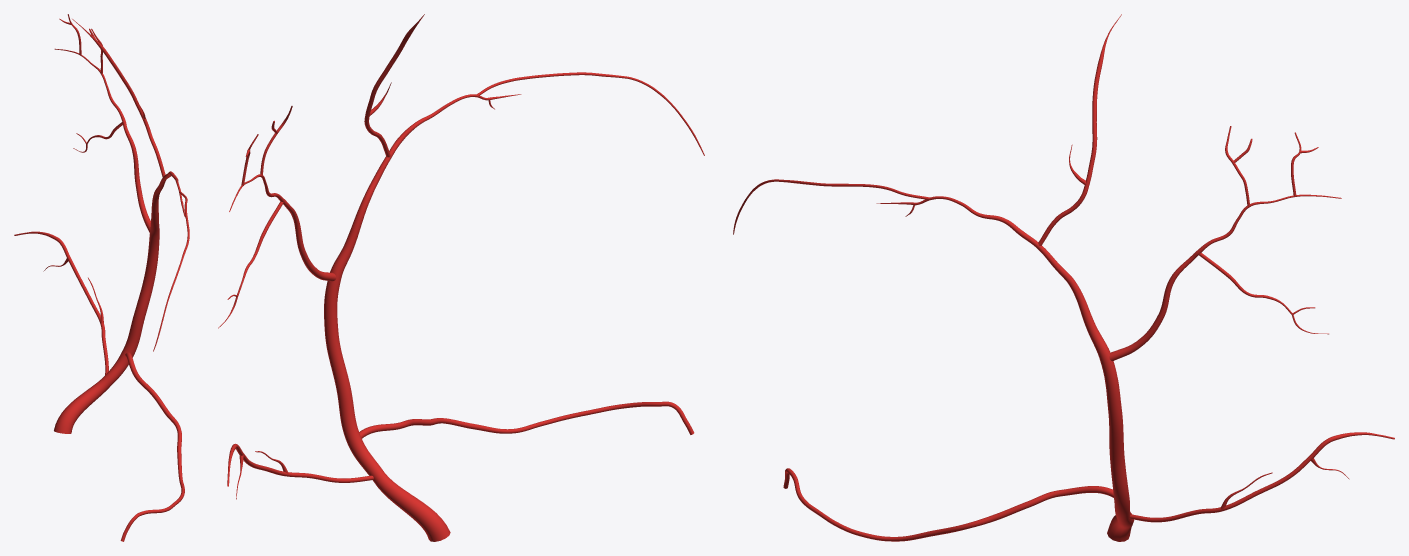
The model's file is circulatorio-superficial-temporal-artery-l.glb.
3 renders of one model, left to right at view 1: azimuth 30°, elevation 25°; view 2: azimuth 150°, elevation 25°; view 3: azimuth 270°, elevation 25°, orthographic. The views are drawn at different scales.
Visible parts, largest first — view 1: Superficial temporal artery.l, Transverse facial artery.l, Frontal branch of superficial temporal artery.l; view 2: Superficial temporal artery.l, Transverse facial artery.l, Frontal branch of superficial temporal artery.l; view 3: Superficial temporal artery.l, Transverse facial artery.l.
Part boxes in pixels (<box>): Superficial temporal artery.l: <box>14,14,185,433</box>; Transverse facial artery.l: <box>120,352,184,541</box>; Frontal branch of superficial temporal artery.l: <box>153,191,189,351</box>; Superficial temporal artery.l: <box>218,14,521,541</box>; Transverse facial artery.l: <box>359,401,694,438</box>; Frontal branch of superficial temporal artery.l: <box>476,72,704,155</box>; Superficial temporal artery.l: <box>876,14,1394,541</box>; Transverse facial artery.l: <box>783,468,1113,541</box>.
Size of the model in its own units: 0.0535 by 0.1256 by 0.1421.
